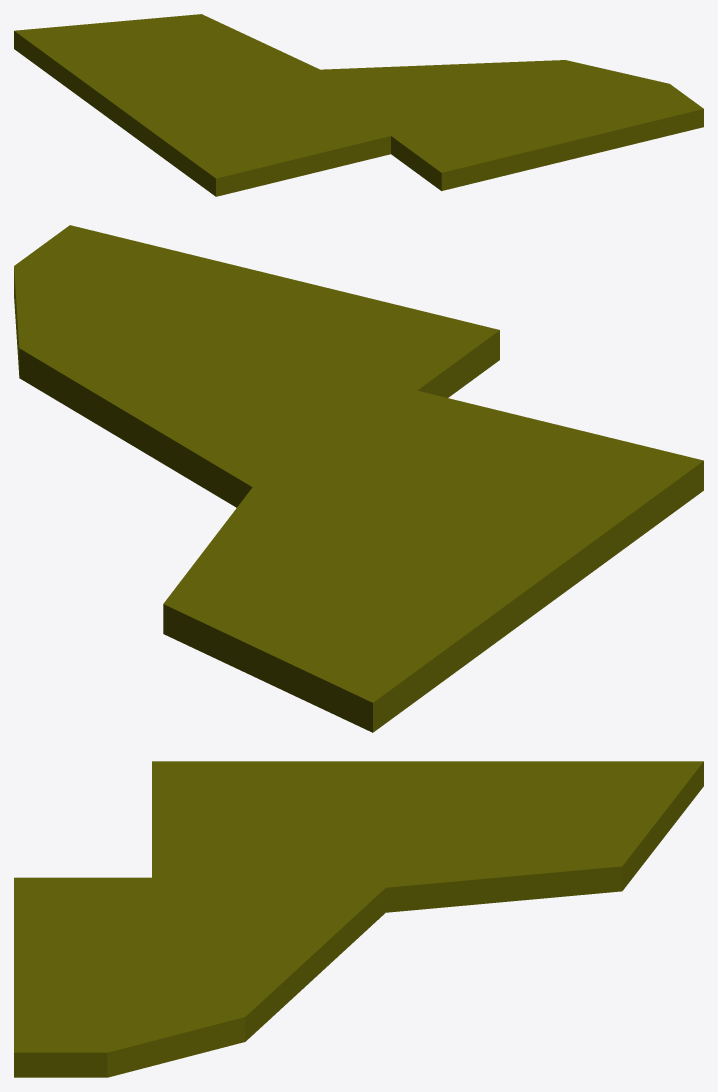
Rendered from x_0_boloto_14_1_rmstrd.fbx.
3 views of the same model, one above another, from view 1: azimuth 30°, elevation 25°; view 2: azimuth 150°, elevation 25°; view 3: azimuth 270°, elevation 25° (orthographic). The views are drawn at different scales.
Parts seen in each view (by area): view 1: x_0_boloto_14_1_rmstrd1; view 2: x_0_boloto_14_1_rmstrd1; view 3: x_0_boloto_14_1_rmstrd1.
Boxes of the visible parts, left/top/right/bottom form: x_0_boloto_14_1_rmstrd1: left=14, top=14, right=703, bottom=196; x_0_boloto_14_1_rmstrd1: left=14, top=225, right=703, bottom=732; x_0_boloto_14_1_rmstrd1: left=14, top=761, right=703, bottom=1077.
Bounding box in the file's own units: 5 × 0.2 × 5.
